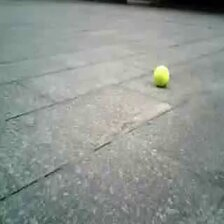tennis: (154, 65, 168, 84)
